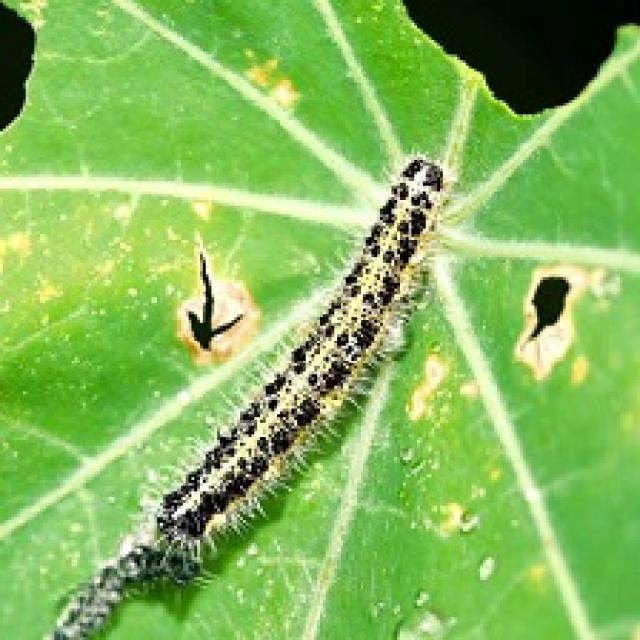Cabbage-worm: (119, 144, 485, 594)
